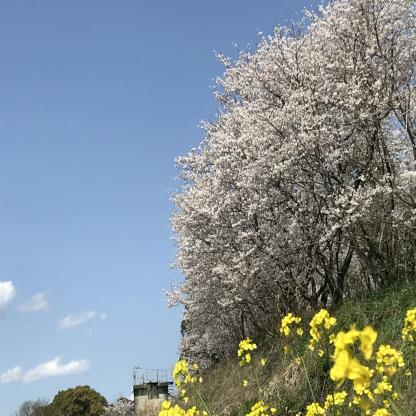Someiyoshino: (170, 7, 413, 359)
